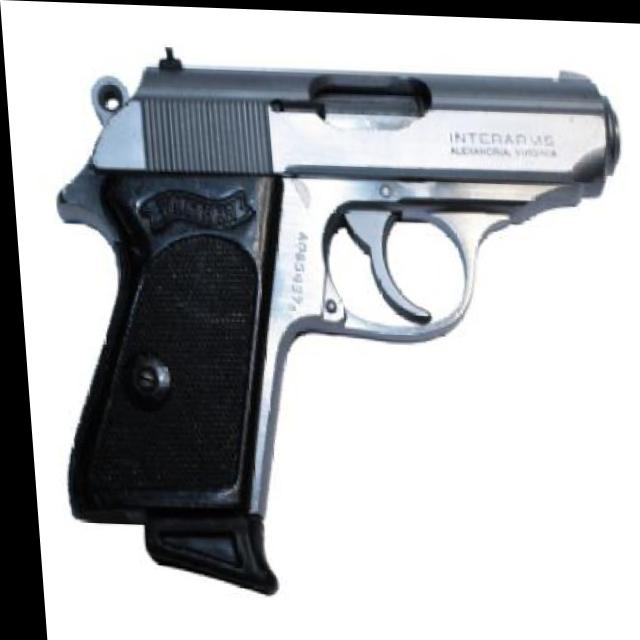handgun: (35, 34, 640, 607)
